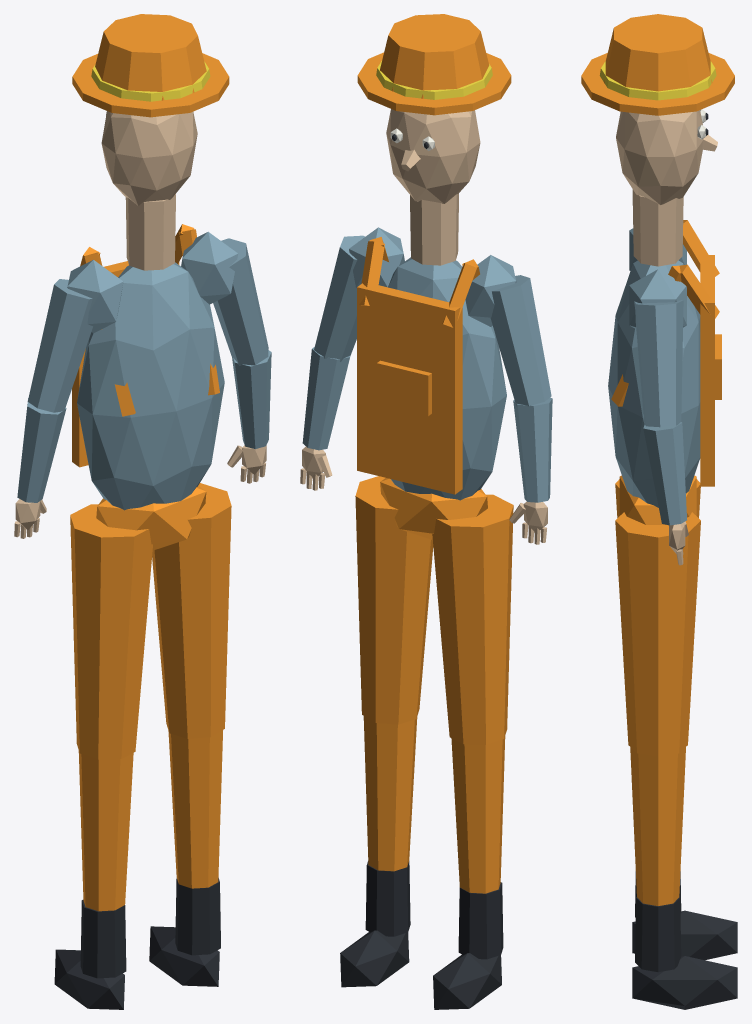
The model's file is OutfitFisherman.fbx.
3 renders of one model, left to right at view 1: azimuth 30°, elevation 25°; view 2: azimuth 150°, elevation 25°; view 3: azimuth 270°, elevation 25°, orthographic. The views are drawn at different scales.
Visible parts, largest first — view 1: Torso, ThighLeft, ThighRight, CalfLeft, CalfRight, Face, HatCrown, SleeveLeft, SleeveRight, HatBrim, Neck, Waist (+12 smaller); view 2: BibPanel, ThighLeft, ThighRight, Torso, CalfLeft, CalfRight, HatCrown, Face, SleeveLeft, HatBrim, SleeveRight, ForearmSleeveLeft (+14 smaller); view 3: ThighRight, Torso, CalfRight, HatCrown, Face, SleeveRight, FootRight, HatBrim, BibPanel, Neck, ForearmSleeveRight, BootTopRight (+9 smaller).
Boxes of the visible parts, x1,y1,x2,y2 form: Torso: (77, 262, 224, 510); ThighLeft: (70, 504, 152, 759); ThighRight: (152, 483, 231, 738); CalfLeft: (78, 750, 133, 911); CalfRight: (168, 730, 222, 888); Face: (101, 111, 197, 205); HatCrown: (95, 14, 206, 100); SleeveLeft: (27, 279, 92, 412); SleeveRight: (213, 238, 268, 365); HatBrim: (72, 53, 229, 117); Neck: (125, 194, 175, 270); Waist: (96, 485, 206, 550); BibPanel: (357, 283, 462, 494); ThighLeft: (432, 494, 513, 744); ThighRight: (355, 476, 433, 724); Torso: (388, 257, 506, 500); CalfLeft: (451, 736, 505, 893); CalfRight: (363, 716, 417, 871); HatCrown: (380, 14, 489, 98); Face: (386, 109, 480, 203); SleeveLeft: (490, 275, 551, 406); HatBrim: (357, 52, 511, 115); SleeveRight: (314, 235, 364, 361); ForearmSleeveLeft: (513, 397, 552, 502); ThighRight: (615, 512, 700, 756); Torso: (608, 260, 700, 507); CalfRight: (630, 747, 685, 905); HatCrown: (604, 14, 712, 91); Face: (616, 110, 702, 204); SleeveRight: (634, 300, 683, 427); FootRight: (632, 956, 737, 1009); HatBrim: (581, 53, 734, 115); BibPanel: (700, 255, 714, 486); Neck: (632, 189, 683, 266); ForearmSleeveRight: (643, 422, 686, 525); BootTopRight: (635, 897, 681, 972).
Bounding box in the file's own units: 0.4727 × 1.75 × 0.2602.
